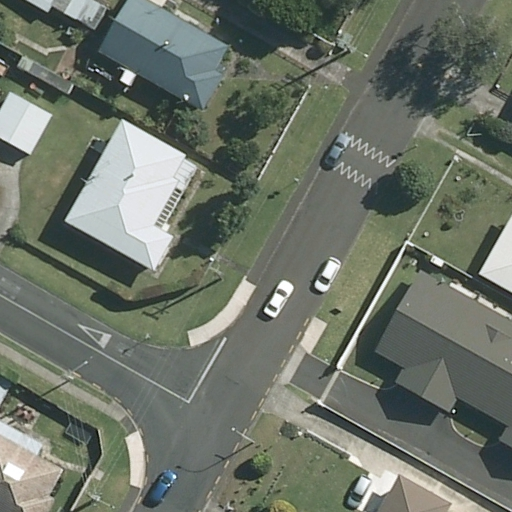DT: (326, 36, 351, 57), (65, 360, 90, 375), (208, 265, 226, 284)
